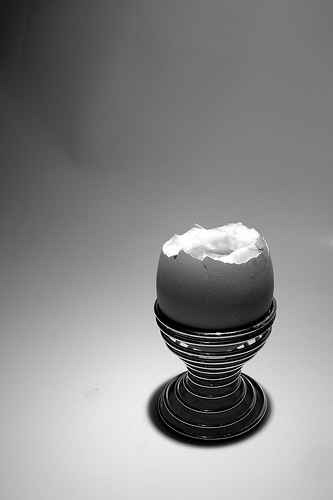egg: (155, 220, 276, 336)
